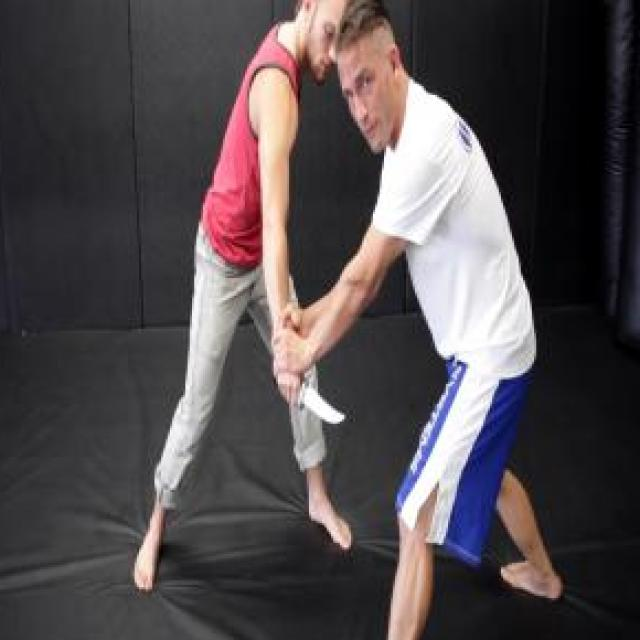knife: (272, 373, 348, 431)
